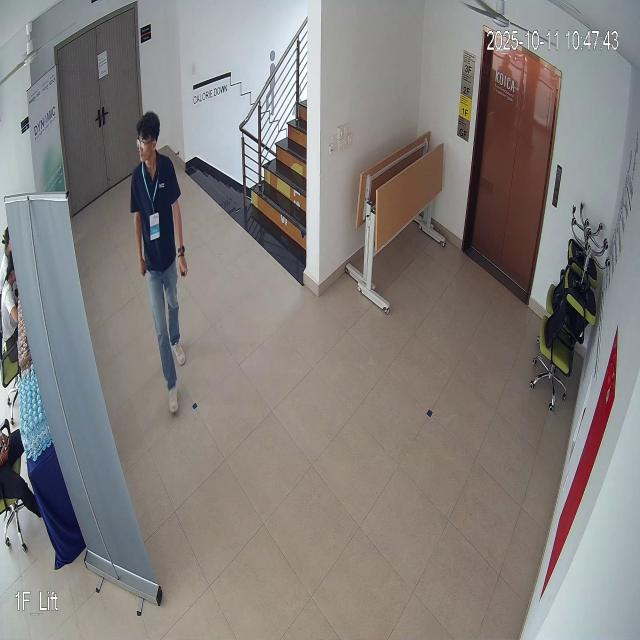face: (135, 107, 162, 174)
